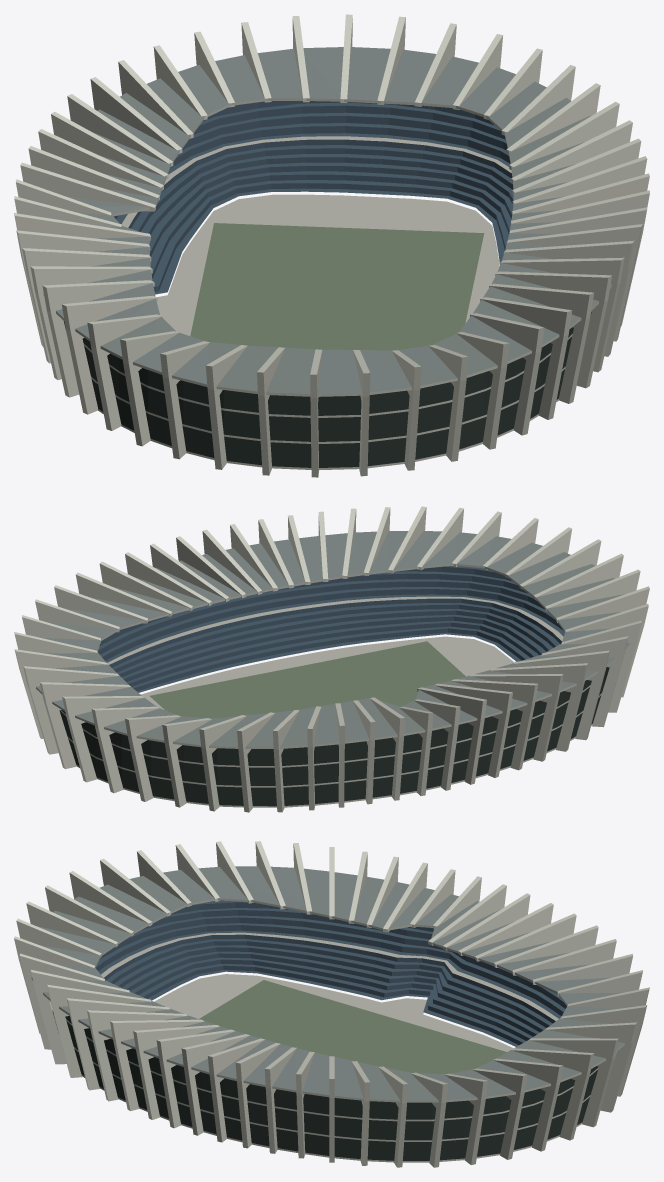
The model's file is parc-des-princes-far.glb.
3 views of the same model, one above another, from view 1: azimuth 30°, elevation 25°; view 2: azimuth 150°, elevation 25°; view 3: azimuth 270°, elevation 25° (orthographic). The views are drawn at different scales.
Visible parts, largest first — view 1: parc-des-princes-0-rib, parc-des-princes-0-roof, parc-des-princes-0-seat, parc-des-princes-0-grass, parc-des-princes-0-glass, parc-des-princes-0-concrete; view 2: parc-des-princes-0-rib, parc-des-princes-0-seat, parc-des-princes-0-roof, parc-des-princes-0-glass, parc-des-princes-0-grass, parc-des-princes-0-concrete; view 3: parc-des-princes-0-rib, parc-des-princes-0-seat, parc-des-princes-0-roof, parc-des-princes-0-glass, parc-des-princes-0-grass, parc-des-princes-0-concrete.
Boxes of the visible parts, x1,y1,x2,y2 form: parc-des-princes-0-rib: [14, 14, 649, 477]; parc-des-princes-0-roof: [56, 47, 611, 394]; parc-des-princes-0-seat: [114, 101, 513, 294]; parc-des-princes-0-grass: [190, 223, 484, 350]; parc-des-princes-0-glass: [64, 312, 591, 467]; parc-des-princes-0-concrete: [43, 98, 611, 470]; parc-des-princes-0-rib: [14, 506, 649, 812]; parc-des-princes-0-seat: [98, 566, 564, 692]; parc-des-princes-0-roof: [36, 531, 629, 746]; parc-des-princes-0-glass: [59, 667, 609, 806]; parc-des-princes-0-grass: [150, 641, 465, 718]; parc-des-princes-0-concrete: [36, 563, 629, 807]; parc-des-princes-0-rib: [14, 841, 649, 1167]; parc-des-princes-0-seat: [95, 900, 566, 1046]; parc-des-princes-0-roof: [32, 866, 623, 1100]; parc-des-princes-0-glass: [52, 1010, 598, 1160]; parc-des-princes-0-grass: [199, 980, 506, 1074]; parc-des-princes-0-concrete: [31, 898, 624, 1162].
Size of the model in its own units: 202 by 36 by 223.
